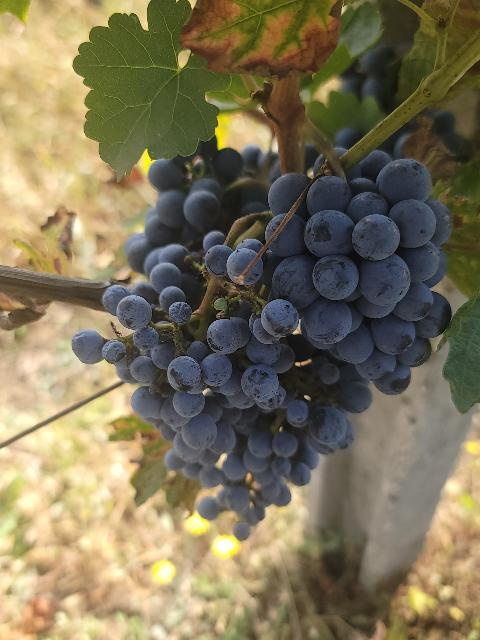grapes: (71, 260, 300, 470), (265, 155, 451, 411), (182, 359, 370, 540)
